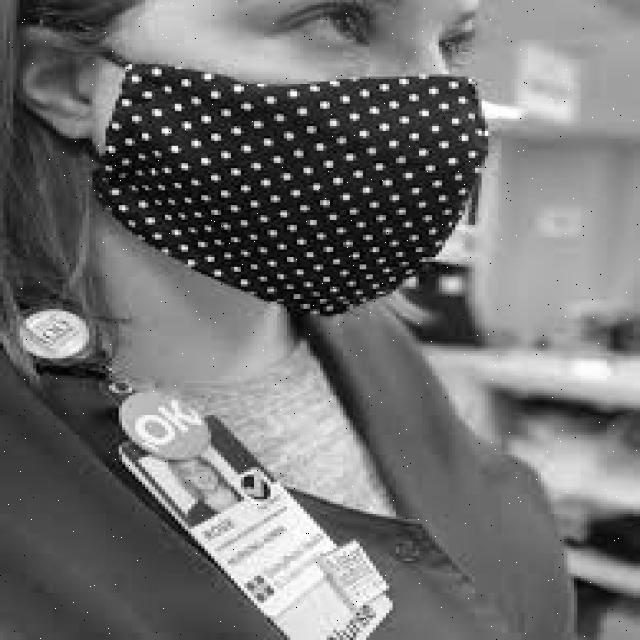fake: (89, 72, 491, 317)
real: (98, 0, 475, 312)
